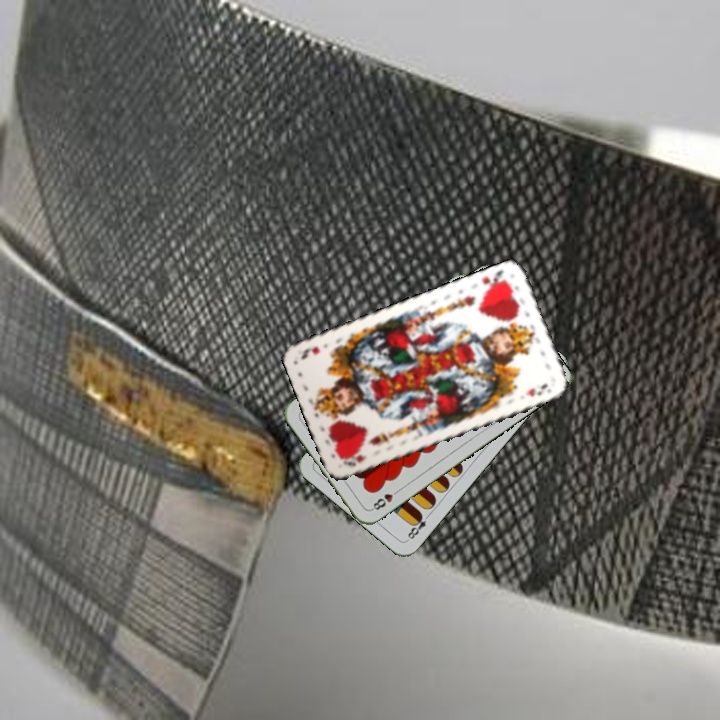E8: (403, 509, 433, 543)
H8: (367, 485, 403, 513)
HK: (478, 265, 509, 294), (339, 451, 369, 469)
